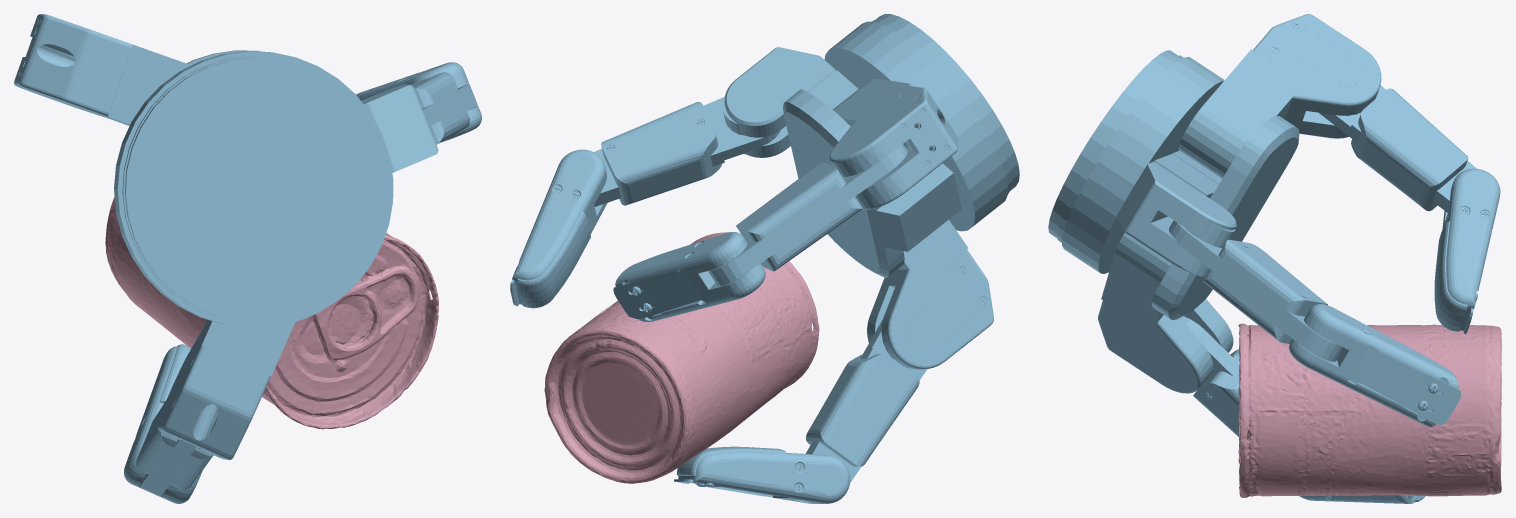
3 views of the same model, side by side, from view 1: azimuth 30°, elevation 25°; view 2: azimuth 150°, elevation 25°; view 3: azimuth 270°, elevation 25° (orthographic). The views are drawn at different scales.
Parts seen in each view (by area): view 1: world; view 2: world; view 3: world.
Boxes of the visible parts, bbox=[...] form: world: bbox=[14, 14, 481, 503]; world: bbox=[510, 14, 1019, 503]; world: bbox=[1048, 14, 1501, 503].
Size of the model in its own units: 0.1732 by 0.184 by 0.1754.
